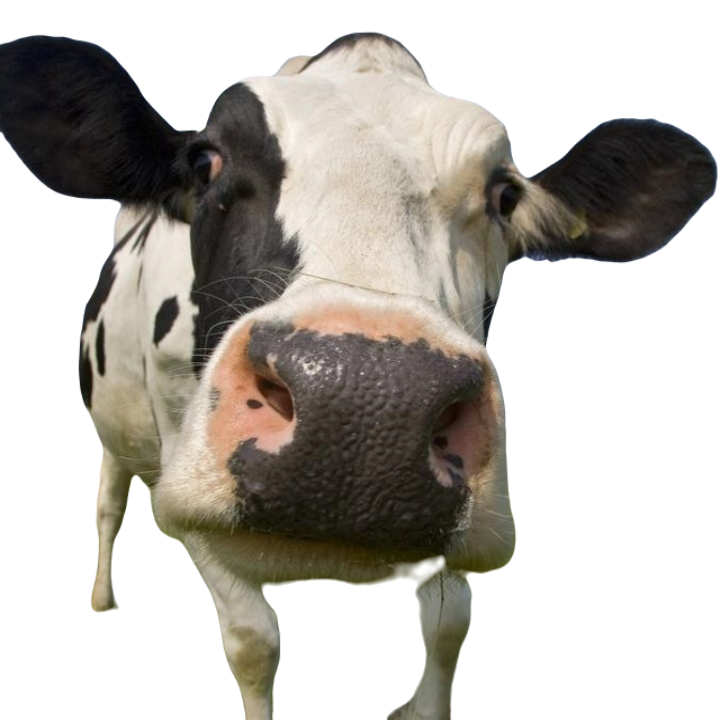Cow: (0, 27, 717, 719)
